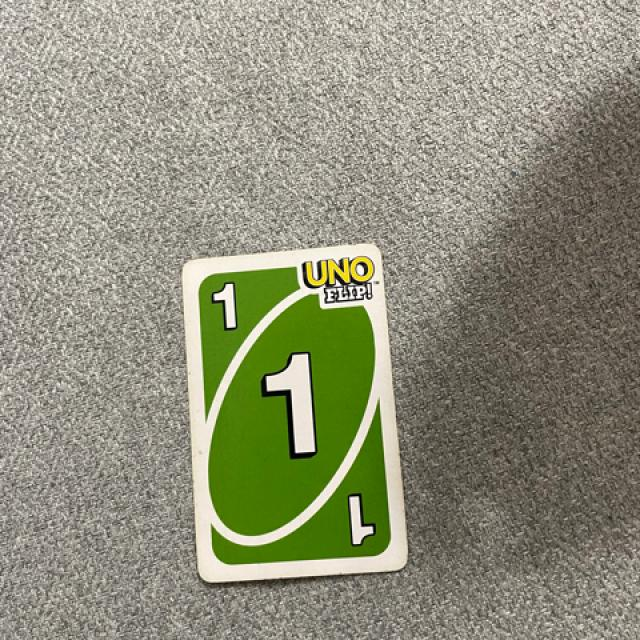lgreen-1: (195, 272, 258, 344)
